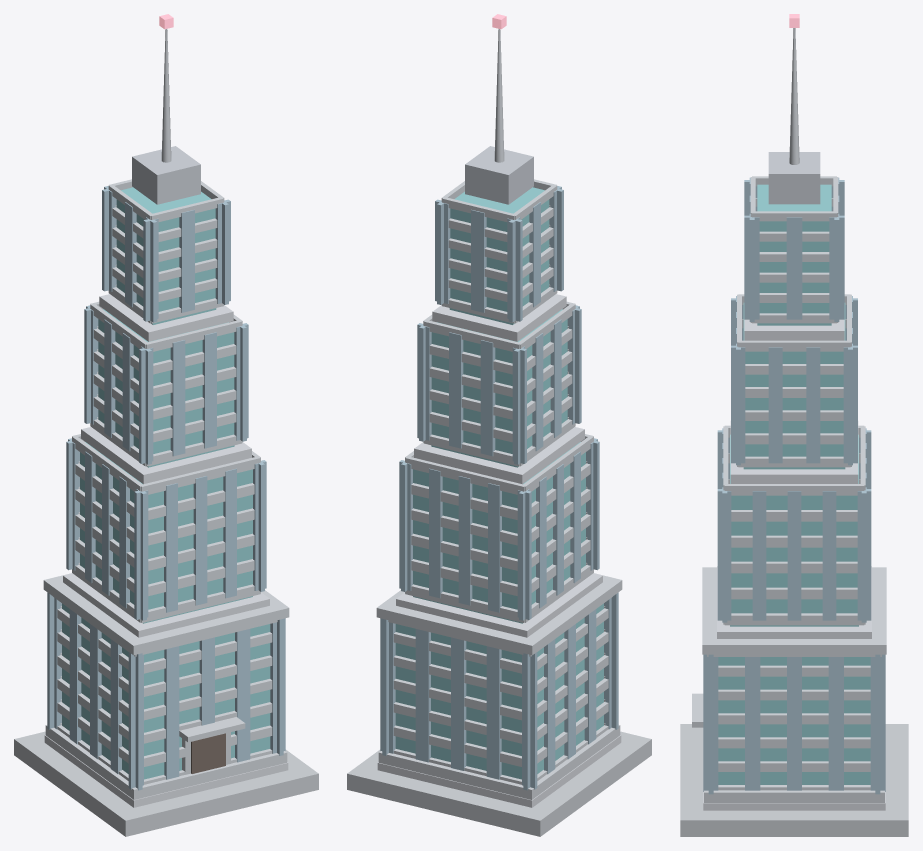
The model's file is num-5-built.glb.
3 views of the same model, side by side, from view 1: azimuth 30°, elevation 25°; view 2: azimuth 150°, elevation 25°; view 3: azimuth 270°, elevation 25° (orthographic). The views are drawn at different scales.
Size of the model in its own units: 15 by 56.05 by 15.
